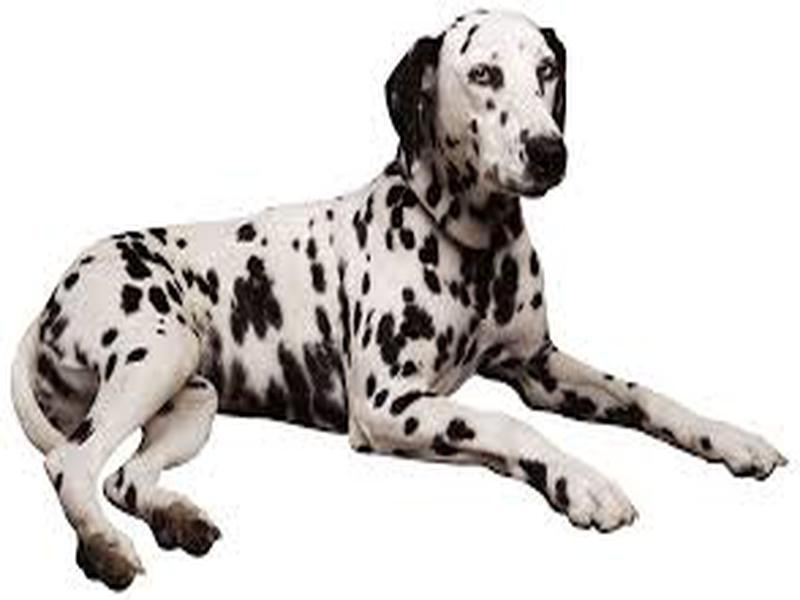dog_down: (9, 9, 793, 596)
